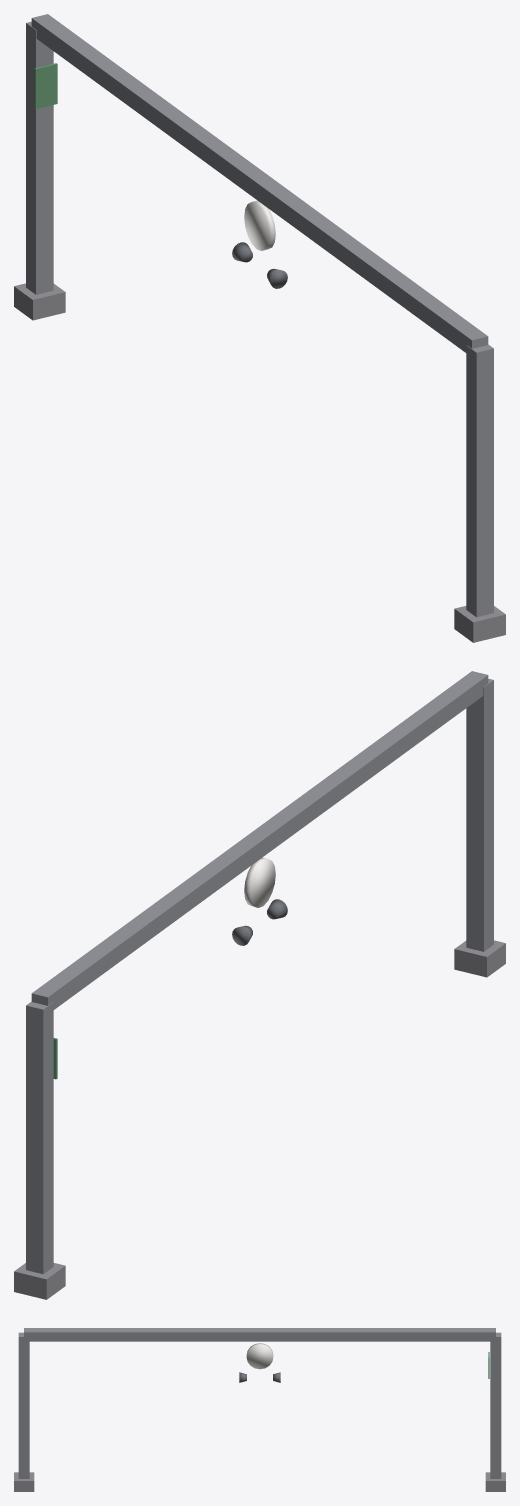
Rendered from prop_arcade_clock.glb.
The picture shows the model from 3 angles, top to bottom: view 1: azimuth 30°, elevation 25°; view 2: azimuth 150°, elevation 25°; view 3: azimuth 270°, elevation 25°; orthographic projection. The views are drawn at different scales.
Parts seen in each view (by area): view 1: arcade_clock; view 2: arcade_clock; view 3: arcade_clock.
Boxes of the visible parts, x1,y1,x2,y2 form: arcade_clock: (14,14,505,642); arcade_clock: (14,671,505,1299); arcade_clock: (14,1328,505,1491).
Size of the model in its own units: 0.6 by 5.15 by 14.6.
